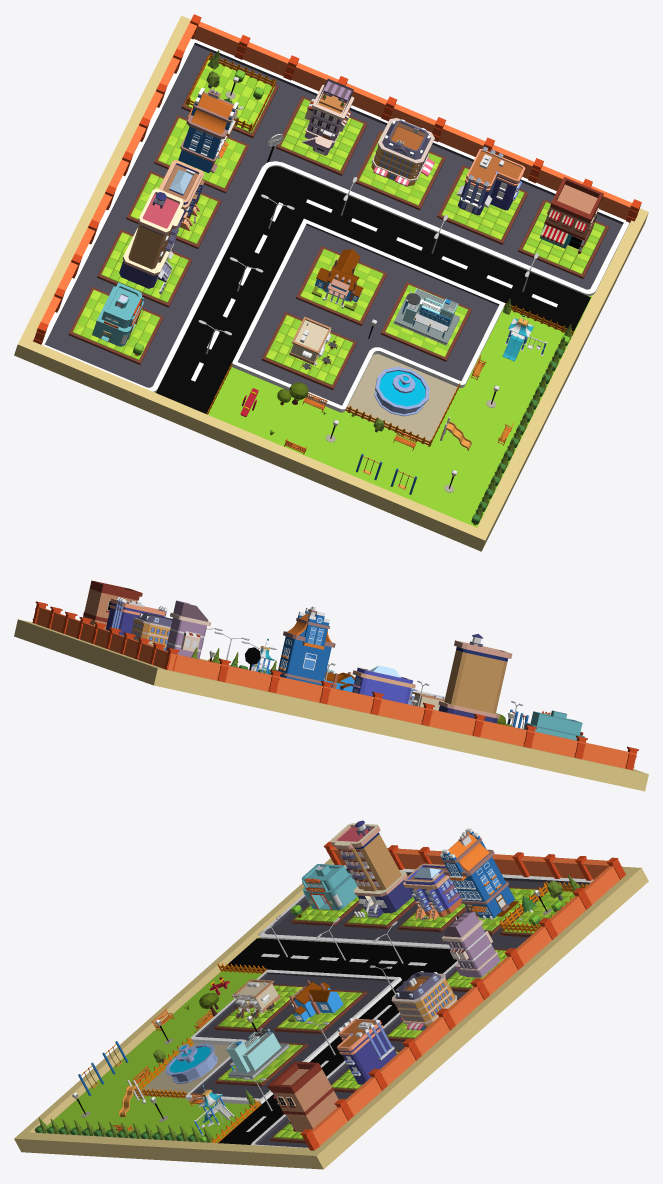
File: Building_-_City_Pack.web.opt.glb
3 views of the same model, one above another, from view 1: azimuth 30°, elevation 25°; view 2: azimuth 150°, elevation 25°; view 3: azimuth 270°, elevation 25° (orthographic). The views are drawn at different scales.
Visible parts, largest first — view 1: GeometryNode_40, GeometryNode_8, GeometryNode_3243, GeometryNode_1953, GeometryNode_72, GeometryNode_3295, GeometryNode_51, GeometryNode_80, GeometryNode_19, GeometryNode_3306, GeometryNode_863, GeometryNode_3216 (+50 smaller); view 2: GeometryNode_1953, GeometryNode_3295, GeometryNode_3306, GeometryNode_1437, GeometryNode_726, GeometryNode_1247, GeometryNode_863, GeometryNode_106, GeometryNode_1659, GeometryNode_1459, GeometryNode_1648, GeometryNode_1801 (+10 smaller); view 3: GeometryNode_1953, GeometryNode_8, GeometryNode_3243, GeometryNode_3295, GeometryNode_40, GeometryNode_72, GeometryNode_3306, GeometryNode_1659, GeometryNode_80, GeometryNode_51, GeometryNode_863, GeometryNode_1437 (+39 smaller).
Boxes of the visible parts, box(x1,y1,x2,y2) form: GeometryNode_40: box(45, 42, 623, 387); GeometryNode_8: box(155, 295, 592, 527); GeometryNode_3243: box(156, 139, 590, 413); GeometryNode_1953: box(14, 15, 648, 551); GeometryNode_72: box(238, 223, 499, 405); GeometryNode_3295: box(36, 21, 631, 330); GeometryNode_51: box(41, 38, 629, 392); GeometryNode_80: box(231, 218, 505, 412); GeometryNode_19: box(345, 354, 457, 445); GeometryNode_3306: box(33, 14, 641, 344); GeometryNode_863: box(92, 282, 143, 346); GeometryNode_3216: box(191, 135, 557, 381); GeometryNode_1953: box(14, 619, 648, 791); GeometryNode_3295: box(36, 607, 636, 768); GeometryNode_3306: box(32, 601, 638, 770); GeometryNode_1437: box(444, 650, 507, 713); GeometryNode_726: box(278, 611, 331, 685); GeometryNode_1247: box(352, 667, 412, 704); GeometryNode_863: box(524, 710, 583, 740); GeometryNode_106: box(165, 600, 206, 658); GeometryNode_1659: box(83, 589, 137, 629); GeometryNode_1459: box(438, 640, 512, 718); GeometryNode_1648: box(83, 580, 142, 622); GeometryNode_1801: box(105, 603, 163, 635); GeometryNode_1953: box(14, 858, 648, 1169); GeometryNode_8: box(47, 937, 261, 1142); GeometryNode_3243: box(218, 916, 458, 1144); GeometryNode_3295: box(312, 846, 619, 1145); GeometryNode_40: box(255, 868, 590, 1147); GeometryNode_72: box(190, 972, 394, 1098); GeometryNode_3306: box(300, 841, 625, 1150); GeometryNode_1659: box(272, 1069, 338, 1132); GeometryNode_80: box(185, 969, 401, 1104); GeometryNode_51: box(251, 865, 593, 1148); GeometryNode_863: box(301, 864, 357, 910); GeometryNode_1437: box(338, 834, 401, 891).
Size of what is drawn, in the model's own units: 41.9 by 20.02 by 38.06.
100 materials, 1 textured.
